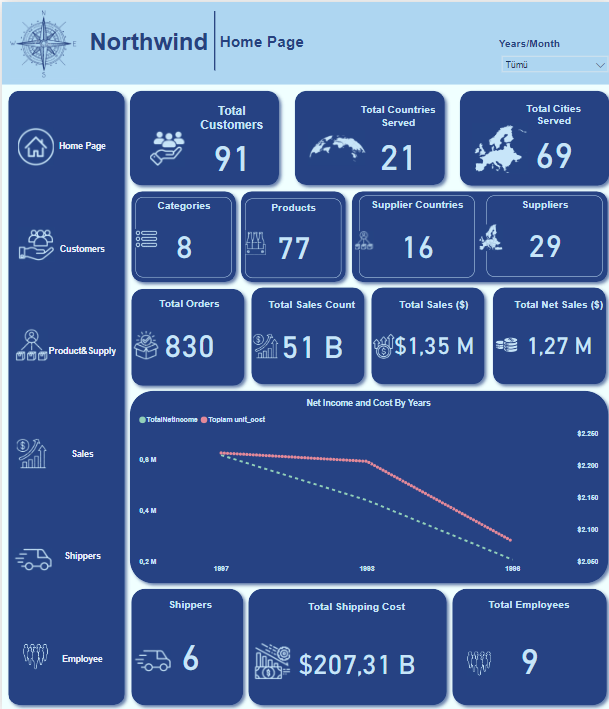

The page's visual inventory and layout, read from the dashboard file:
{"tool":"powerbi","page":{"name":"Home Page","canvas":[950,1100],"ordinal":0},"visuals":[{"type":"shape","box":[0,0,950.6,128],"z":0},{"type":"shape","box":[0,128.3,200,971.7],"z":1000},{"type":"textbox","box":[129.9,33.8,206.5,57.1],"z":2000},{"type":"image","box":[-0.4,-0.4,129.9,123.4],"z":3000},{"type":"shape","box":[323.4,14.3,13,92.2],"z":4000},{"type":"textbox","box":[332.8,41.4,177.6,39.7],"z":5000},{"type":"shape","box":[189.2,128.9,251,166],"z":6000},{"type":"card","title":"Total Customers","fields":{"Values":["DAX.Müşteri_Sayısı"]},"box":[291.7,158.4,130.9,114.7],"z":7000},{"type":"shape","box":[443.3,128,252.2,165.6],"z":8000},{"type":"card","title":"Total Countries Served","fields":{"Values":["Count(customers.country)"]},"box":[549.1,158.4,130.9,114.7],"z":9000},{"type":"image","box":[221.1,193.7,70.6,67.6],"z":10000},{"type":"image","box":[468.2,193.7,102.9,64.7],"z":11000},{"type":"shape","box":[698.9,128,251.1,166.7],"z":12000},{"type":"card","title":"Total Cities Served","fields":{"Values":["Count(customers.city)"]},"box":[791.3,156.9,129.4,114.7],"z":13000},{"type":"image","box":[724.1,180.4,98.5,89.7],"z":14000},{"type":"shape","box":[190.9,284.4,181.8,160],"z":15000},{"type":"shape","box":[361.3,284.1,182.3,160],"z":16000},{"type":"shape","box":[531.9,284.4,416.2,160],"z":17000},{"type":"card","title":"Supplier Countries","fields":{"Values":["Count(suppliers.country)"]},"box":[554.5,300,179.2,127.3],"z":18000},{"type":"card","title":"Suppliers","fields":{"Values":["CountNonNull(suppliers.supplier_id)"]},"box":[750.7,300.7,179.9,125.7],"z":19000},{"type":"card","title":"Products","fields":{"Values":["CountNonNull(products.product_id)"]},"box":[376.6,303.9,149.4,123.4],"z":20000},{"type":"card","title":"Categories","fields":{"Values":["Count(products.category_id)"]},"box":[207.8,302.6,149.4,124.7],"z":21000},{"type":"image","box":[200,345.5,46.8,39],"z":22000},{"type":"image","box":[372.7,348.1,41.6,48.1],"z":23000},{"type":"image","box":[542.9,345.5,39,46.8],"z":24000},{"type":"image","box":[733.8,339,46.8,51.9],"z":25000},{"type":"shape","box":[189.2,592.8,761.4,318.1],"z":26000},{"type":"shape","box":[189.5,435,195,170],"z":27000},{"type":"card","title":"Total Orders","fields":{"Values":["DAX.Total Order"]},"box":[209.6,458.5,162.8,119.1],"z":28000},{"type":"shape","box":[751,433.7,195,170],"z":29000},{"type":"shape","box":[376.5,433.7,195,170],"z":30000},{"type":"card","title":"Total Sales Count","fields":{"Values":["DAX.TotalSales"]},"box":[394.1,460.8,174.5,117.6],"z":31000},{"type":"card","title":"Total Net Sales ($)","fields":{"Values":["DAX.TotalNetIncome"]},"box":[780.4,460.8,164.2,119.6],"z":32000},{"type":"shape","box":[562.2,433.7,195,170],"z":33000},{"type":"card","title":"Total Sales ($)","fields":{"Values":["DAX.TotalIncome"]},"box":[588.9,460,162.2,120],"z":34000},{"type":"lineChart","title":"Net Income and Cost By Years","fields":{"Category":["Dates.Years"],"Y2":["Sum(products.unit_cost)"],"Y":["DAX.TotalNetIncome"]},"box":[206.8,613.6,722.7,279.5],"z":35000},{"type":"shape","box":[191.2,900,193,200],"z":36000},{"type":"card","title":"Shippers","fields":{"Values":["CountNonNull(shippers.shipper_id)"]},"box":[208.7,926.1,165.2,150],"z":37000},{"type":"shape","box":[371.6,900,327.3,200],"z":38000},{"type":"card","title":"Total Shipping Cost","fields":{"Values":["Sum(order details.freight)"]},"box":[421.2,928.8,257.7,171.2],"z":39000},{"type":"shape","box":[687.8,900,259.2,200],"z":40000},{"type":"card","title":"Total Employees","fields":{"Values":["Count(employees.employee_id)"]},"box":[696.6,924.7,239.3,162.9],"z":41000},{"type":"image","box":[189.4,505.3,68.1,54.3],"z":42000},{"type":"image","box":[384.7,509.7,52.6,49.5],"z":43000},{"type":"image","box":[562.2,508.9,57.8,48.9],"z":44000},{"type":"image","box":[759.6,505.8,44.2,53.8],"z":45000},{"type":"image","box":[197.9,995.8,68.8,52.1],"z":46000},{"type":"image","box":[386.5,982.7,65.4,76.9],"z":47000},{"type":"image","box":[704.5,1001.1,71.9,49.4],"z":48000},{"type":"pageNavigator","box":[46.1,144.7,156.6,955.3],"z":49000},{"type":"image","box":[17,187.2,72.3,70.2],"z":50000},{"type":"image","box":[19.4,338.7,68.5,72.6],"z":51000},{"type":"image","box":[14.9,495.7,61.7,72.3],"z":52000},{"type":"image","box":[17,672.3,61.7,57.4],"z":53000},{"type":"image","box":[12.8,834,70.2,59.6],"z":54000},{"type":"image","box":[23.9,989.1,57.6,51.1],"z":55000},{"type":"slicer","title":"Years/Month","fields":{"Values":["Dates.Years","Dates.Months"]},"box":[765.5,55.9,184.7,70.5],"z":56000}]}

Visuals, with their boxes in screenshot pixels (x1, y1, x2, y2), scaled from the page's 950x1100 canvas onto the 609x709 screenshot:
shape: 0:0:608:83
shape: 0:83:128:708
textbox: 83:22:216:59
image: 0:0:83:79
shape: 207:9:216:69
textbox: 213:27:327:52
shape: 121:83:282:190
"Total Customers" card: 187:102:271:176
shape: 284:83:446:189
"Total Countries Served" card: 352:102:436:176
image: 142:125:187:168
image: 300:125:366:167
shape: 448:83:608:190
"Total Cities Served" card: 507:101:590:175
image: 464:116:527:174
shape: 122:183:239:286
shape: 232:183:348:286
shape: 341:183:608:286
"Supplier Countries" card: 355:193:470:275
"Suppliers" card: 481:194:597:275
"Products" card: 241:196:337:275
"Categories" card: 133:195:229:275
image: 128:223:158:248
image: 239:224:266:255
image: 348:223:373:253
image: 470:219:500:252
shape: 121:382:608:587
shape: 121:280:246:390
"Total Orders" card: 134:296:239:372
shape: 481:280:606:389
shape: 241:280:366:389
"Total Sales Count" card: 253:297:365:373
"Total Net Sales ($)" card: 500:297:606:374
shape: 360:280:485:389
"Total Sales ($)" card: 378:296:481:374
"Net Income and Cost By Years" lineChart: 133:395:596:576
shape: 123:580:246:708
"Shippers" card: 134:597:240:694
shape: 238:580:448:708
"Total Shipping Cost" card: 270:599:435:708
shape: 441:580:607:708
"Total Employees" card: 447:596:600:701
image: 121:326:165:361
image: 247:329:280:360
image: 360:328:397:360
image: 487:326:515:361
image: 127:642:171:675
image: 248:633:290:683
image: 452:645:498:677
pageNavigator: 30:93:130:708
image: 11:121:57:166
image: 12:218:56:265
image: 10:320:49:366
image: 11:433:50:470
image: 8:538:53:576
image: 15:638:52:670
"Years/Month" slicer: 491:36:608:81
